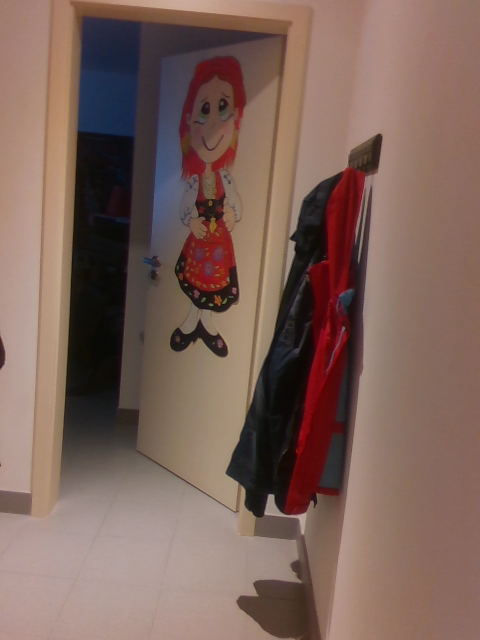semi: (29, 5, 310, 534)
